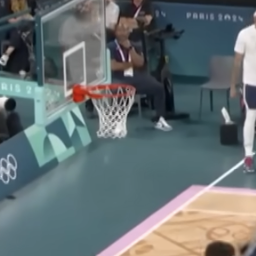hoop: (73, 84, 134, 138)
